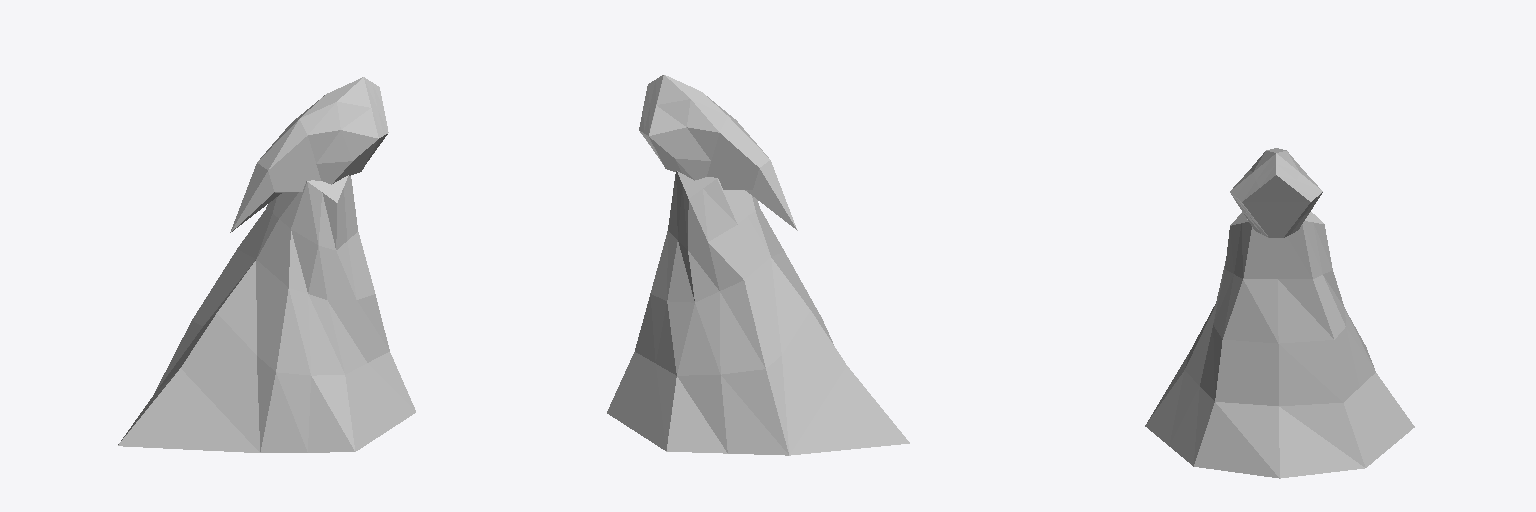
Rendered from Death.obj.
The picture shows the model from 3 angles: view 1: azimuth 30°, elevation 25°; view 2: azimuth 150°, elevation 25°; view 3: azimuth 270°, elevation 25°; orthographic projection.
Parts seen in each view (by area): view 1: Cone, Icosphere; view 2: Cone, Icosphere; view 3: Cone, Icosphere.
Part boxes in pixels (x1,y1,x2,y2): Cone: (118, 175, 415, 452); Icosphere: (230, 77, 388, 232); Cone: (607, 171, 909, 455); Icosphere: (639, 75, 797, 230); Cone: (1145, 212, 1414, 478); Icosphere: (1230, 148, 1322, 237).
Bounding box in the file's own units: 6.41 × 6.73 × 5.33.